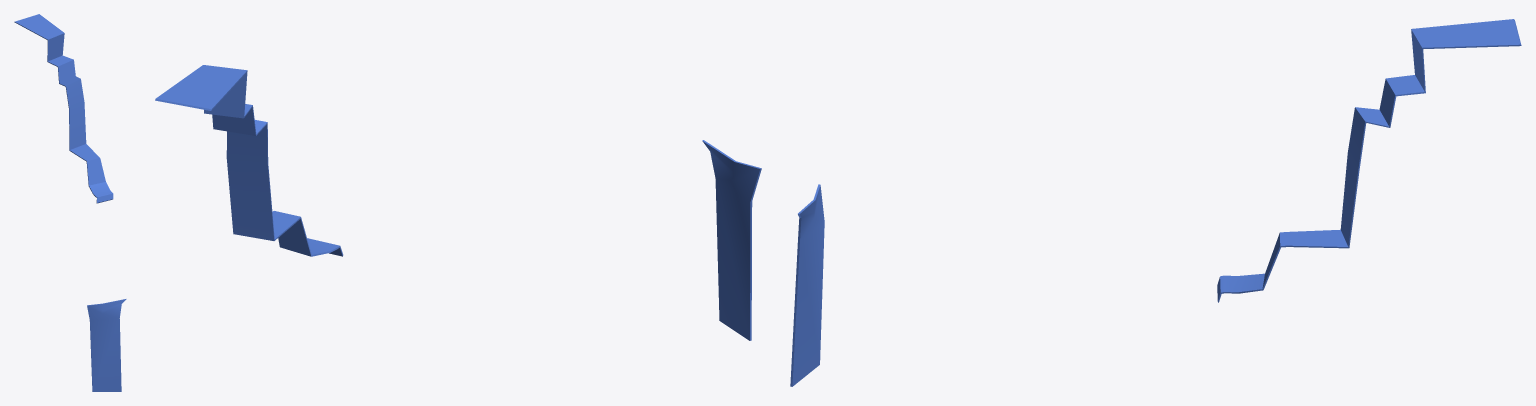
The model's file is slatemineswaterfall.fbx.
3 renders of one model, left to right at view 1: azimuth 30°, elevation 25°; view 2: azimuth 150°, elevation 25°; view 3: azimuth 270°, elevation 25°, orthographic. The views are drawn at different scales.
Parts seen in each view (by area): view 1: SMWaterfall; view 2: SMWaterfall; view 3: SMWaterfall.
Boxes of the visible parts, left/top/right/bottom form: SMWaterfall: left=14, top=14, right=126, bottom=391; SMWaterfall: left=155, top=65, right=761, bottom=340; SMWaterfall: left=790, top=19, right=1521, bottom=386.
Size of the model in its own units: 16163 by 25652 by 38660.
